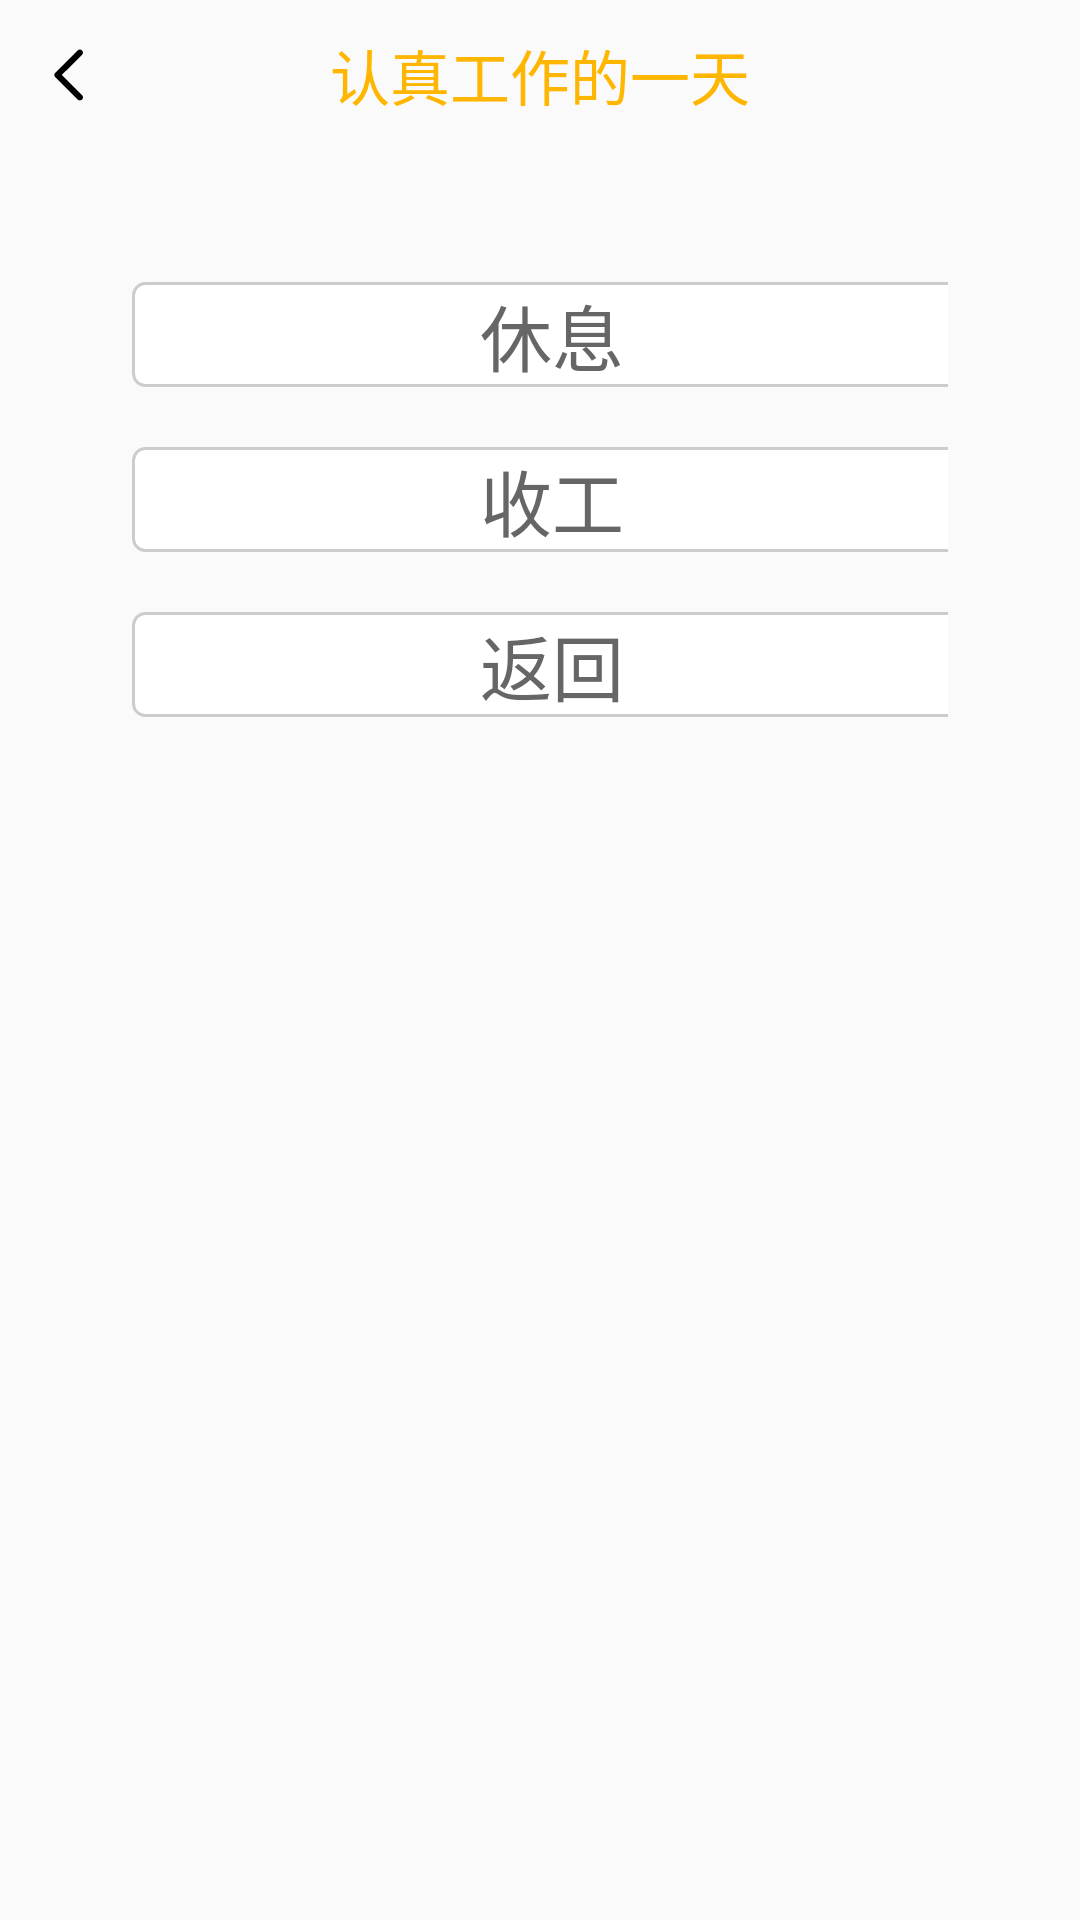

Icon bounding boxes for this 1080 x 1920 phone screenshot, format box(x1, y1, x2, y2):
back: box(54, 49, 83, 101)
